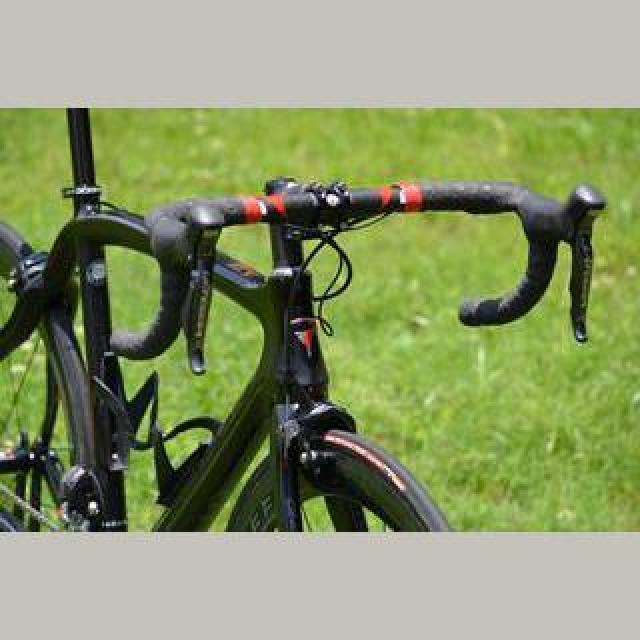Person: (0, 161, 616, 531)
